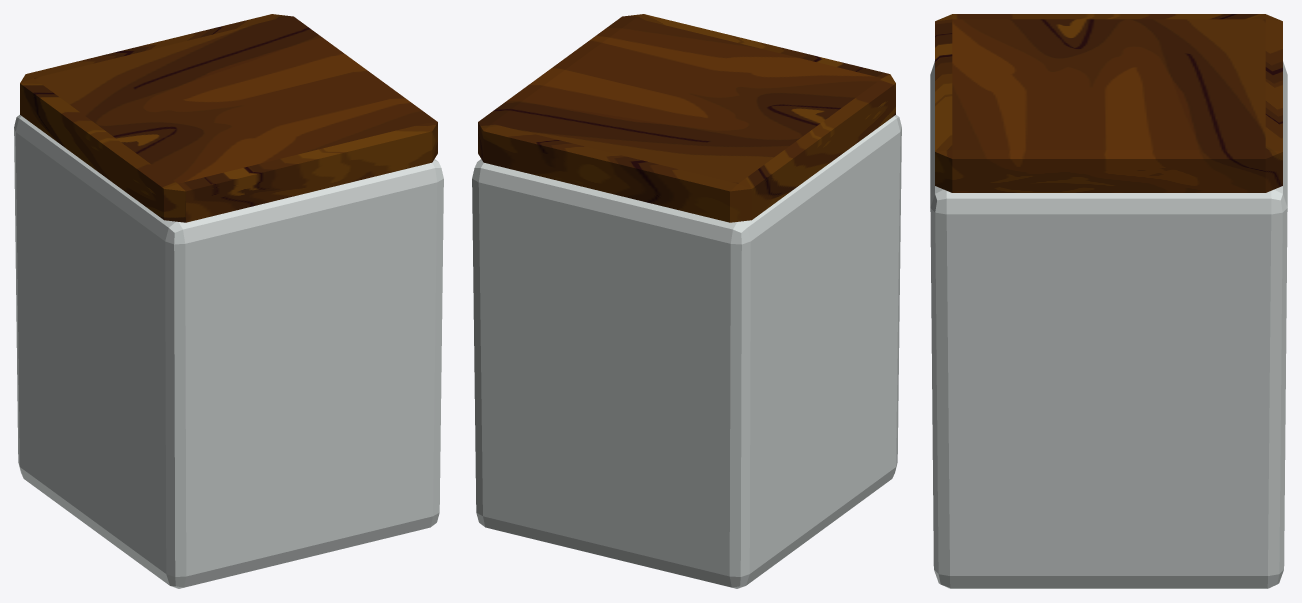
File: jar.fbx
3 views of the same model, side by side, from view 1: azimuth 30°, elevation 25°; view 2: azimuth 150°, elevation 25°; view 3: azimuth 270°, elevation 25° (orthographic). The views are drawn at different scales.
Parts seen in each view (by area): view 1: Cube, Cube.001; view 2: Cube, Cube.001; view 3: Cube, Cube.001.
Part boxes in pixels (x1=…): Cube: x1=14, y1=115, x2=443, y2=588; Cube.001: x1=20, y1=14, x2=437, y2=222; Cube: x1=472, y1=115, x2=901, y2=588; Cube.001: x1=478, y1=14, x2=895, y2=222; Cube: x1=930, y1=61, x2=1287, y2=588; Cube.001: x1=935, y1=14, x2=1282, y2=192.
Bounding box in the file's own units: 246 × 343 × 253.
Materials: 2 (1 with a texture image).
